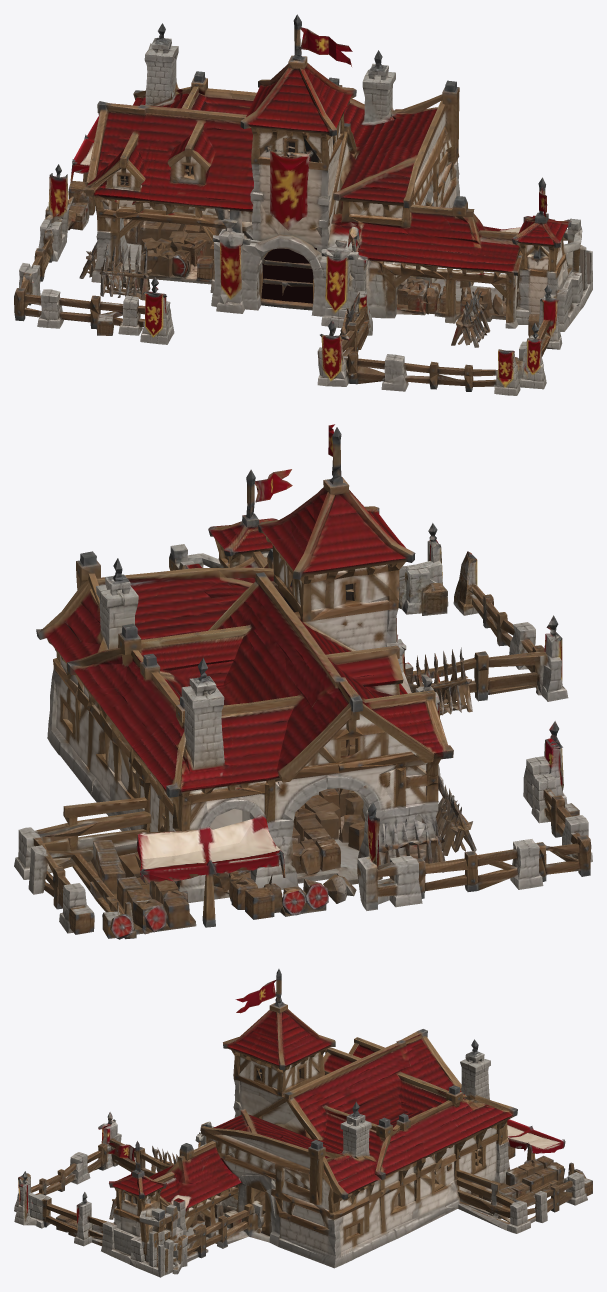
Rendered from barracks.glb.
3 views of the same model, one above another, from view 1: azimuth 30°, elevation 25°; view 2: azimuth 150°, elevation 25°; view 3: azimuth 270°, elevation 25° (orthographic). The views are drawn at different scales.
Parts seen in each view (by area): view 1: Barracks; view 2: Barracks; view 3: Barracks.
Part boxes in pixels (left/top/right/bottom): Barracks: left=14, top=14, right=592, bottom=395; Barracks: left=14, top=424, right=592, bottom=939; Barracks: left=14, top=969, right=592, bottom=1277.
Bounding box in the file's own units: 3.1 × 1.76 × 4.15.
2 materials, 1 textured.
